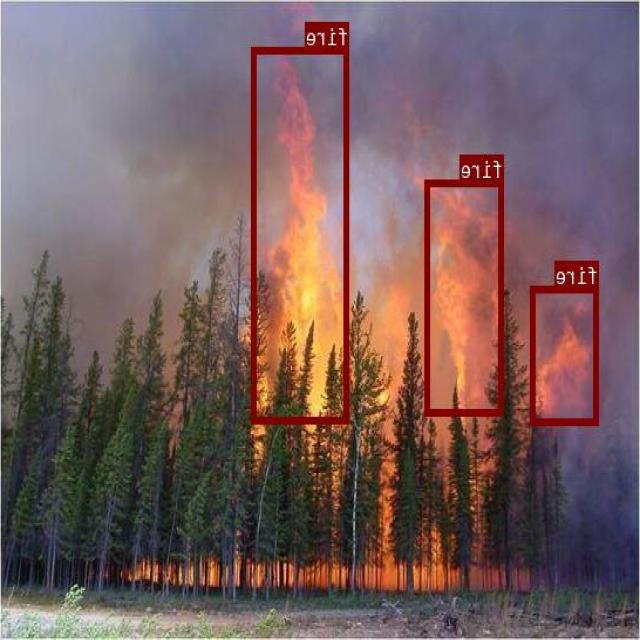fire: (252, 46, 350, 423), (426, 178, 504, 415), (531, 286, 600, 424)
